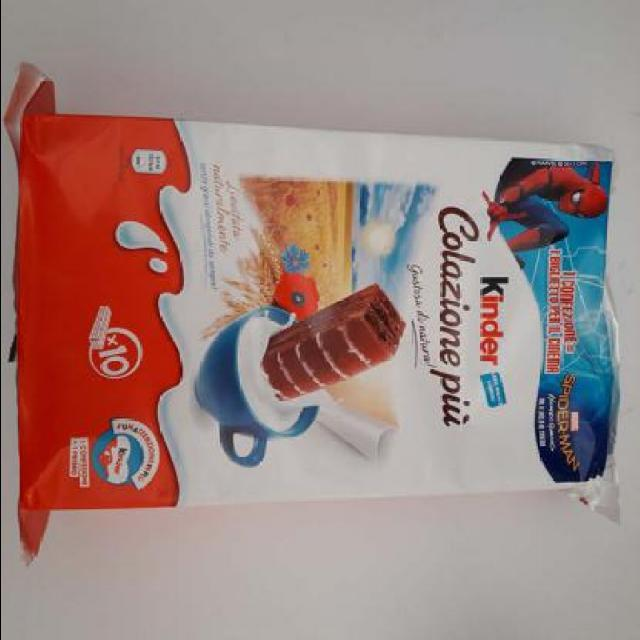Merendine: (3, 62, 625, 566)
Merendine packaged: (257, 282, 406, 402)
